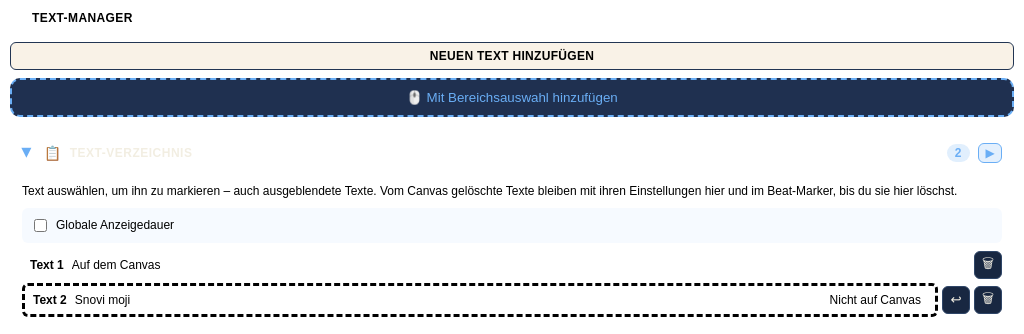
TextManagerPanel – Text-Verzeichnis › löscht endgültig und setzt Marker-Referenzen zurück
Step 1. Click the button with test id "delete-from-directory" in the row of "Text 2" → {"x": 988, "y": 300}, box [974,286,1002,314]
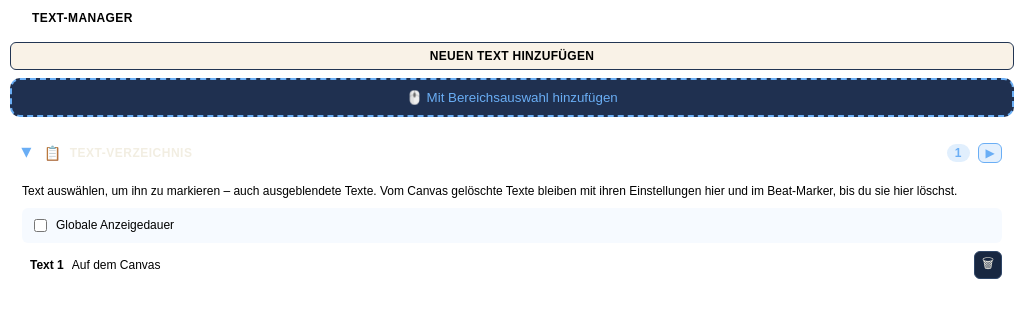
Check: the number of list items is 1, box [22,251,1002,279]
